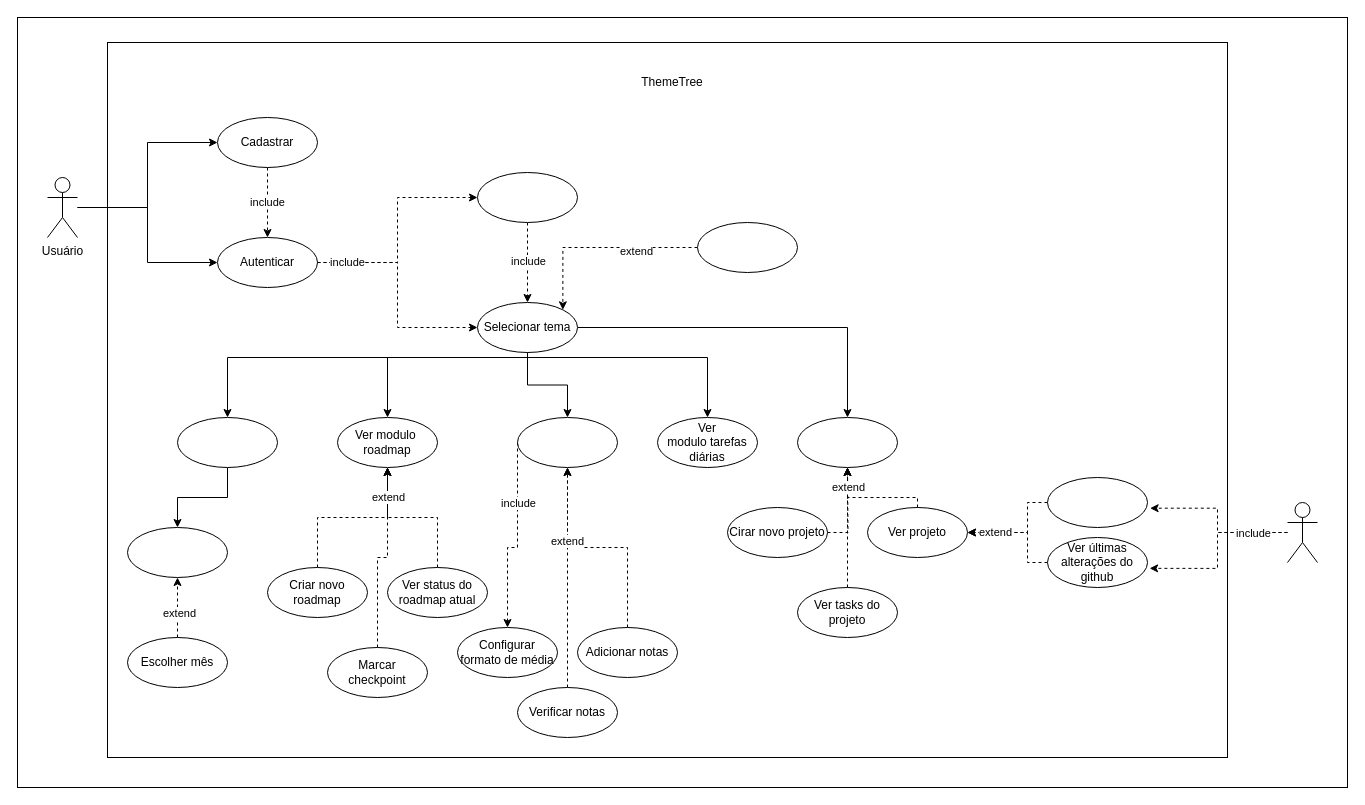
Some shapes in this 1365 by 805 pixel diagram are drawn without their labels. Each missing label, with the centre of its shape:
Criar tarefa: (747,247)
Criar tema: (527,197)
GitHub: (1302,532)
Ver agenda: (177,552)
Ver issues do github: (1097,502)
Ver modulo agenda: (227,442)
Ver modulo projetos: (847,442)
Ver modulo provas: (567,442)
